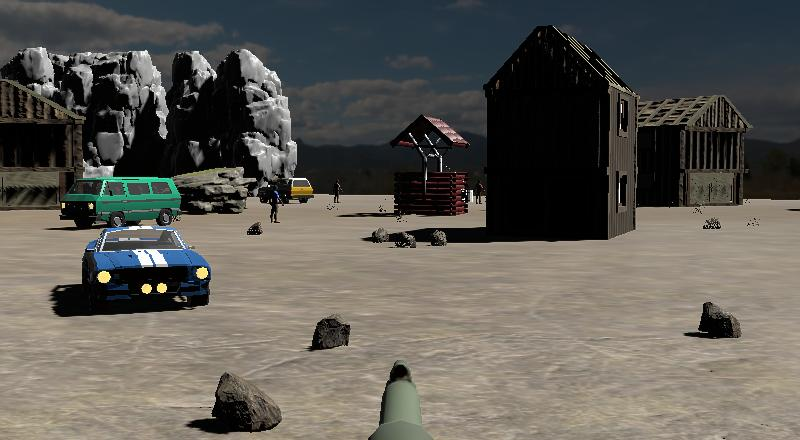House: (484, 24, 640, 241)
car: (78, 223, 215, 315), (57, 173, 184, 231), (257, 175, 315, 206)
